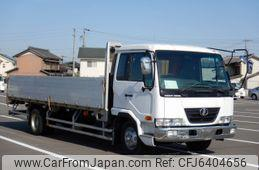Car: (249, 87, 259, 100)
Truck: (6, 39, 235, 153)
